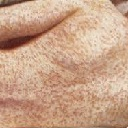Measles: (12, 54, 119, 118), (51, 17, 105, 48)
